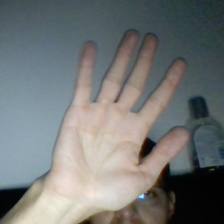left: (45, 23, 193, 212)
